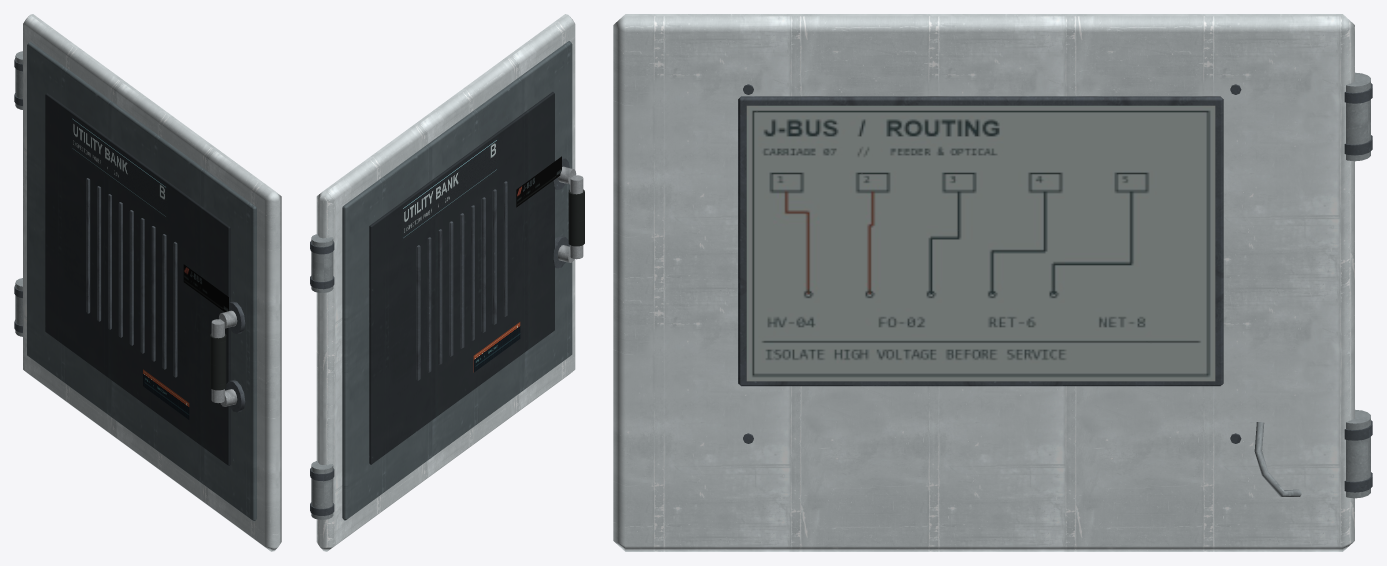
File: prop_service_cabinet.fbx
3 renders of one model, left to right at view 1: azimuth 30°, elevation 25°; view 2: azimuth 150°, elevation 25°; view 3: azimuth 270°, elevation 25°, orthographic. The views are drawn at different scales.
Visible parts, largest first — view 1: SM_prop_service_cabinet; view 2: SM_prop_service_cabinet; view 3: SM_prop_service_cabinet.
Part boxes in pixels (<box>): SM_prop_service_cabinet: <box>14,14,281,551</box>; SM_prop_service_cabinet: <box>310,14,584,551</box>; SM_prop_service_cabinet: <box>613,14,1372,551</box>.
Size of the model in its own units: 0.2071 by 1.08 by 1.38.
9 materials, 9 textured.
